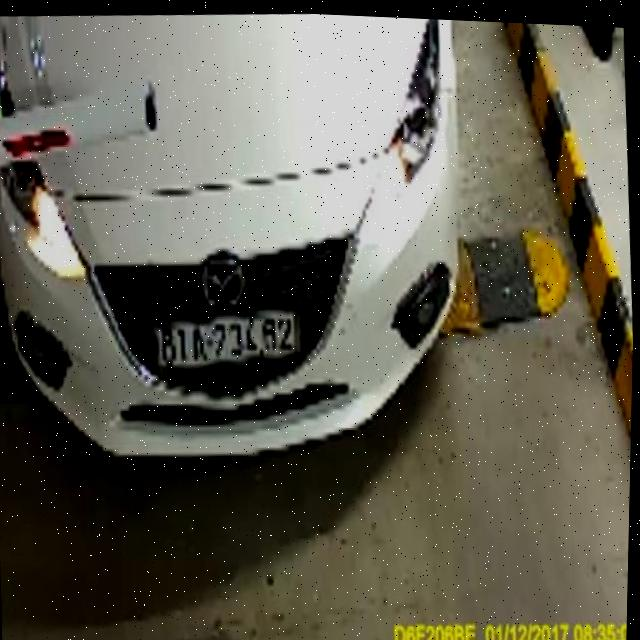car: (0, 0, 483, 493)
plate: (146, 302, 308, 377)
